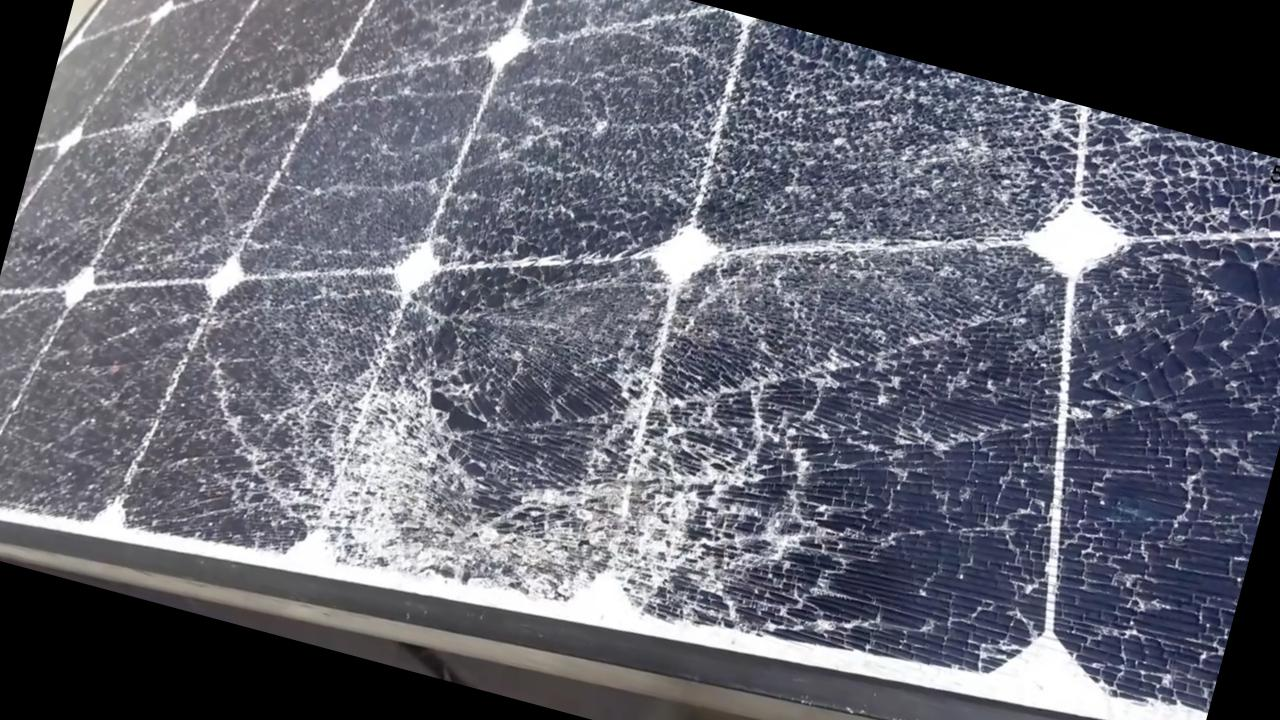Crack: (232, 262, 920, 705), (755, 44, 1279, 400), (278, 296, 298, 304)
